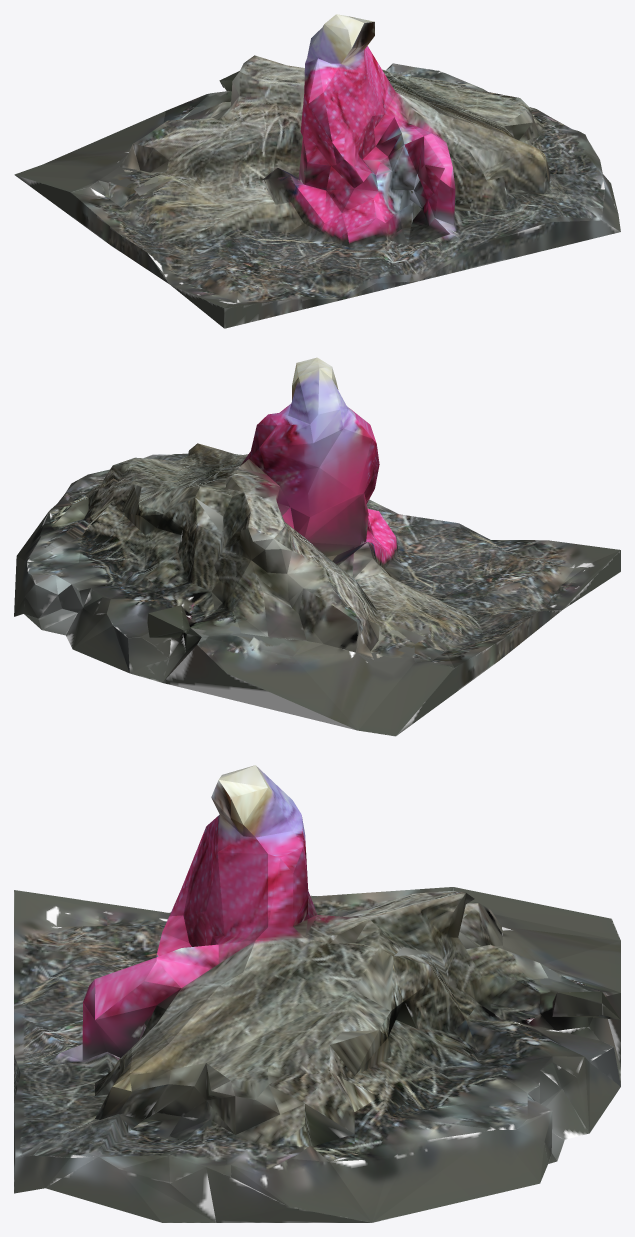
The model's file is kakashi_09b.fbx.
The picture shows the model from 3 angles, top to bottom: view 1: azimuth 30°, elevation 25°; view 2: azimuth 150°, elevation 25°; view 3: azimuth 270°, elevation 25°; orthographic projection. The views are drawn at different scales.
Visible parts, largest first — view 1: kakashi_09:Mesh; view 2: kakashi_09:Mesh; view 3: kakashi_09:Mesh.
Boxes of the visible parts, x1=… form: kakashi_09:Mesh: x1=14, y1=14, x2=620, y2=328; kakashi_09:Mesh: x1=14, y1=357, x2=620, y2=736; kakashi_09:Mesh: x1=14, y1=765, x2=620, y2=1222.
Size of the model in its own units: 40.78 by 18.14 by 34.4.
1 material, 1 textured.
